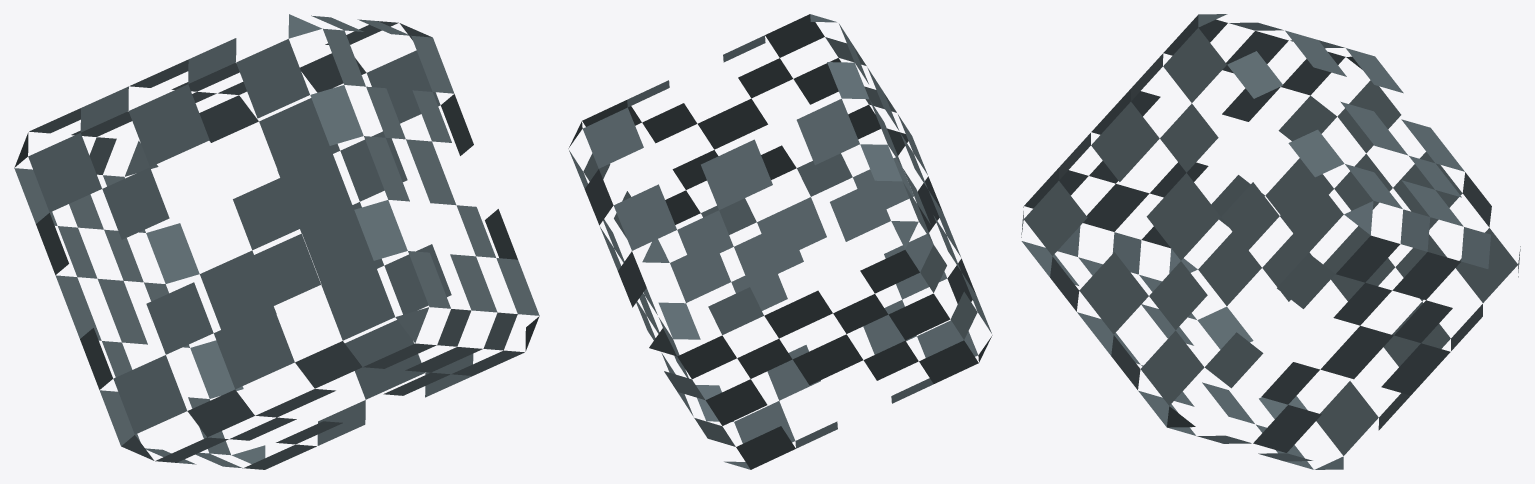
Rendered from Hologram Cube.FBX.
3 renders of one model, left to right at view 1: azimuth 30°, elevation 25°; view 2: azimuth 150°, elevation 25°; view 3: azimuth 270°, elevation 25°, orthographic. The views are drawn at different scales.
Parts seen in each view (by area): view 1: Hologram Cube; view 2: Hologram Cube; view 3: Hologram Cube.
Boxes of the visible parts, x1,y1,x2,y2 form: Hologram Cube: (14, 14, 539, 469); Hologram Cube: (568, 14, 992, 469); Hologram Cube: (1021, 14, 1520, 469).
Size of the model in its own units: 295 by 338 by 344.
